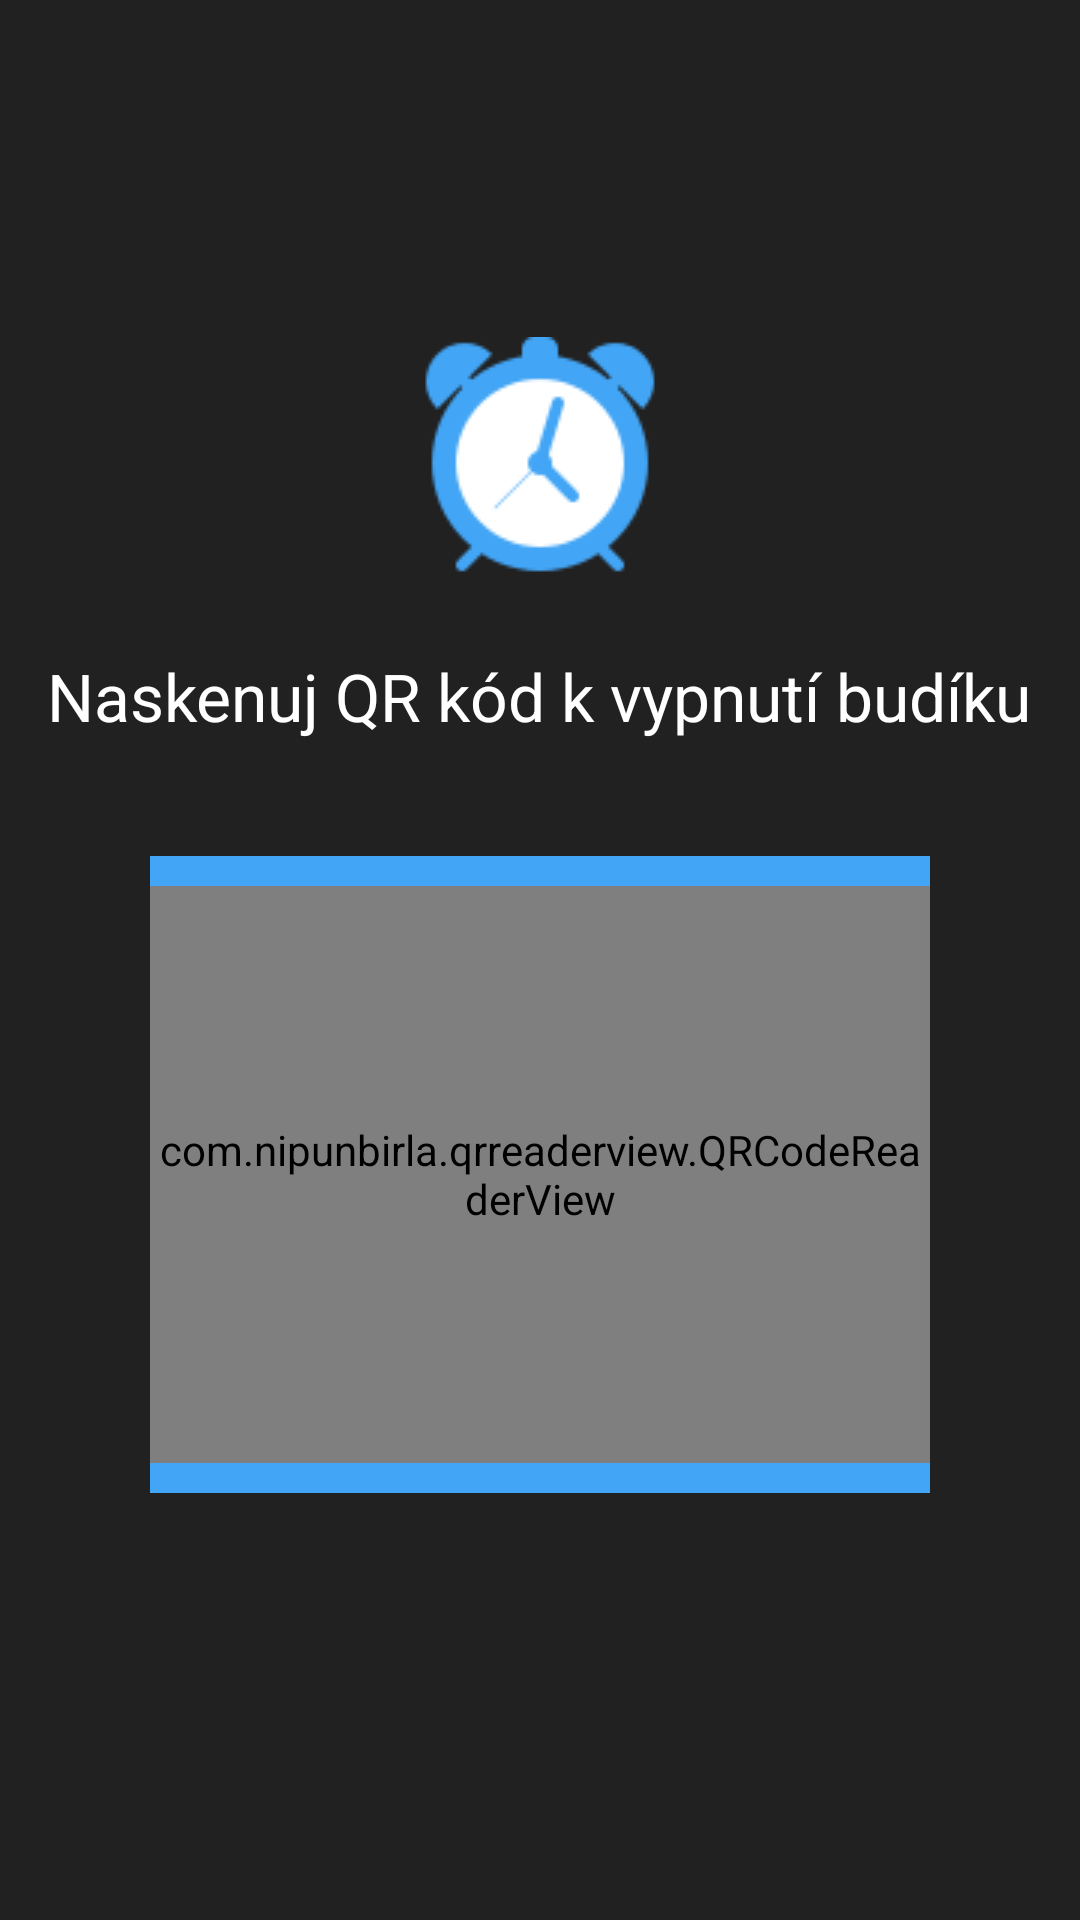

Icon click points for this 1080 x 1920 phone screenshot, format (x=x, y=y):
alarmbuz: (x=540, y=454)
